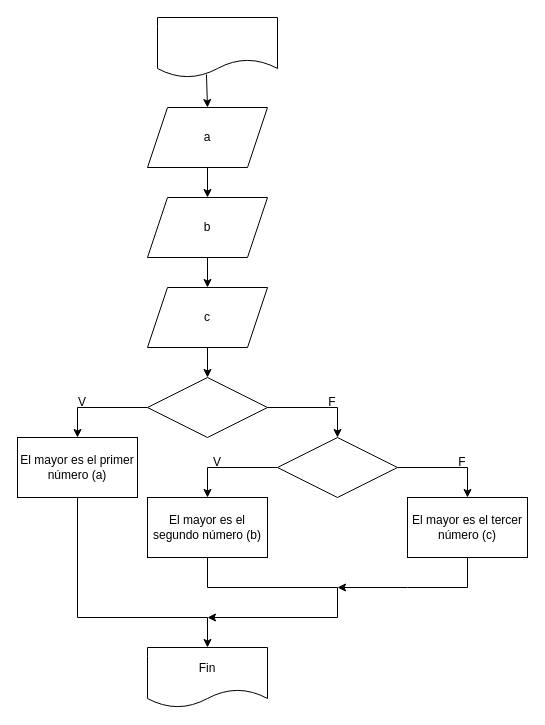
Some shapes in this 545 by 725 pixel diagram are drawn without their labels. The centre of each missing label's shape, as x and y in pixels:
"a < b && b > c" belongs at (x=337, y=467).
"a > b && b > c" belongs at (x=207, y=407).
"Inicio" belongs at (x=217, y=47).
